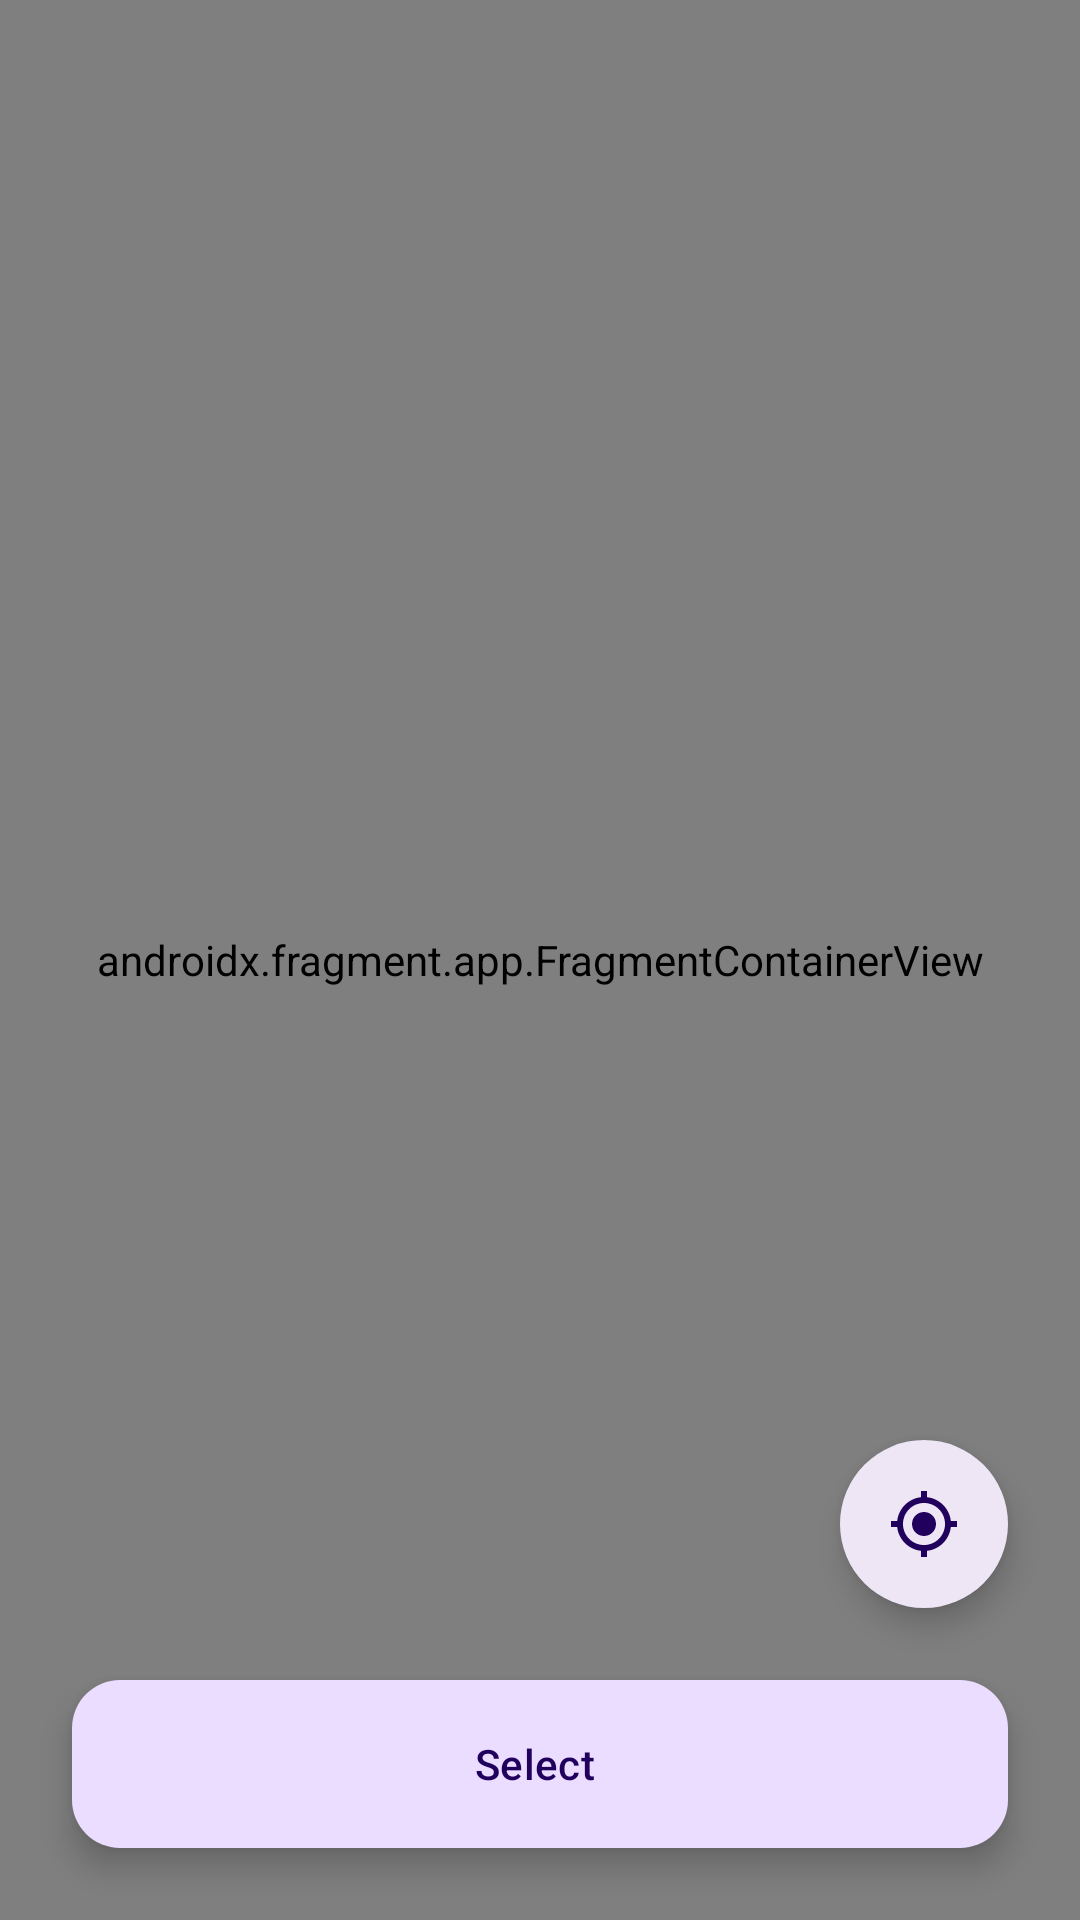

Screen size 1080 x 1920. Icon name, then its center in pixels as (x=x, y=y):
location: (x=924, y=1524)
